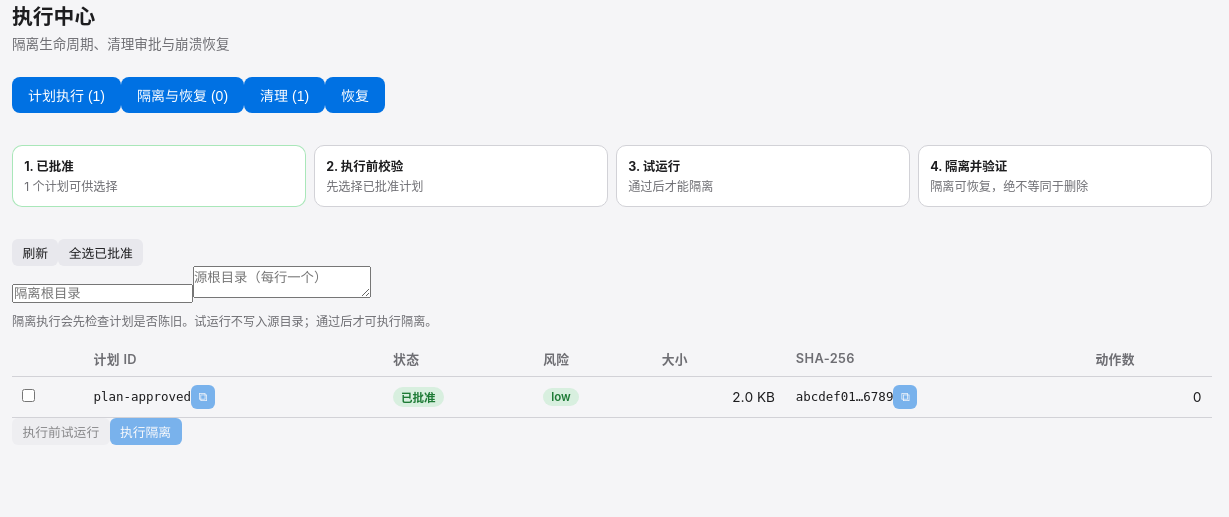
Scenario: ExecutionCenterPage plan execution › keeps purge approval disabled while the recovery lock is active
This screenshot has width=1229, height=517.
Click the button "清理 (1)": x=285, y=95 [244, 77, 325, 113]
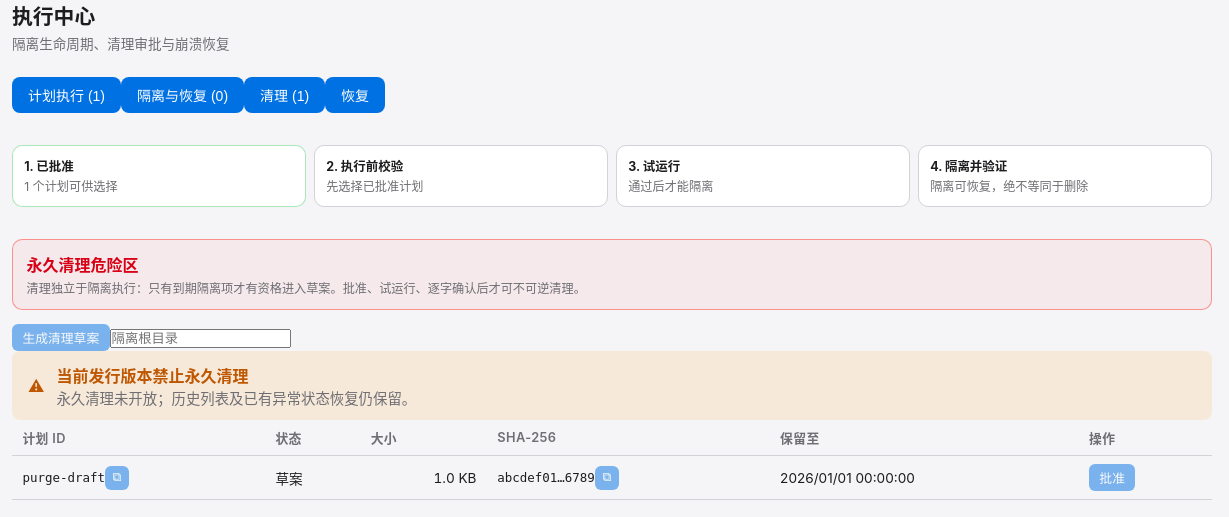
Expected: the button "批准" is disabled, [1089, 464, 1135, 491]
Expected: the text "永久清理危险区" is shown, [27, 255, 139, 275]
